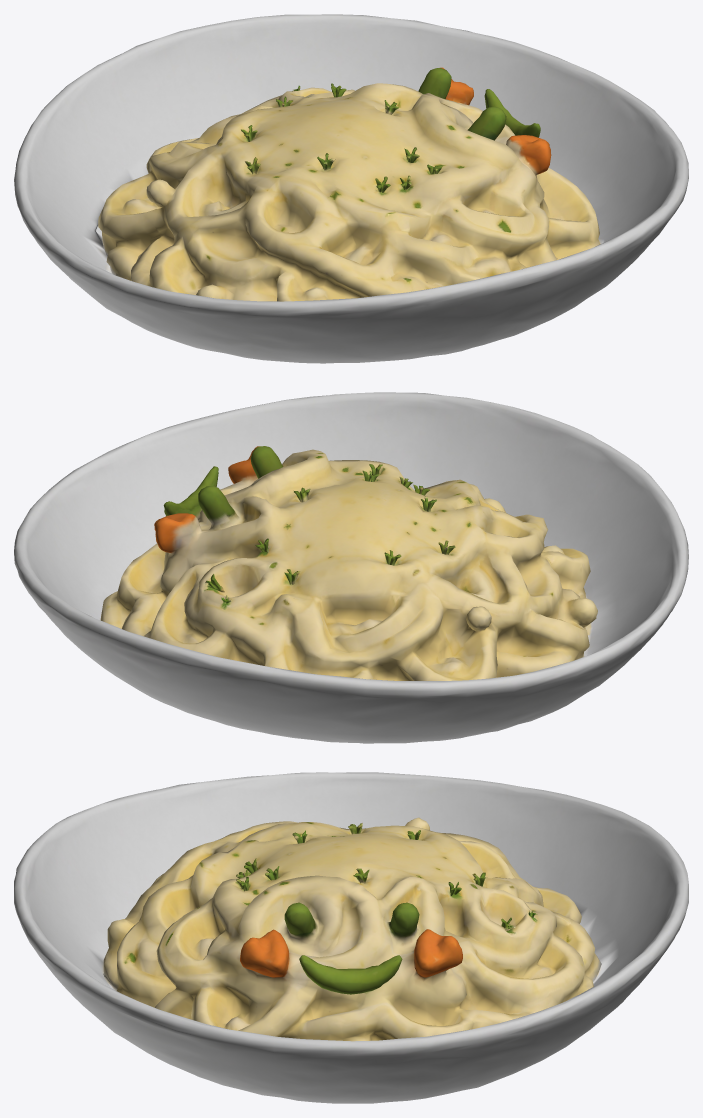
File: inf_fettuccini_alfredo.fbx
3 renders of one model, top to bottom at view 1: azimuth 30°, elevation 25°; view 2: azimuth 150°, elevation 25°; view 3: azimuth 270°, elevation 25°, orthographic.
Visible parts, largest first — view 1: meshes[0]; view 2: meshes[0]; view 3: meshes[0].
Part boxes in pixels (x1,y1,x2,y2): meshes[0]: (14, 14, 688, 363); meshes[0]: (14, 392, 688, 743); meshes[0]: (14, 772, 688, 1103).
Size of the model in its own units: 99.8 by 26.37 by 99.8.
1 material, 1 textured.
